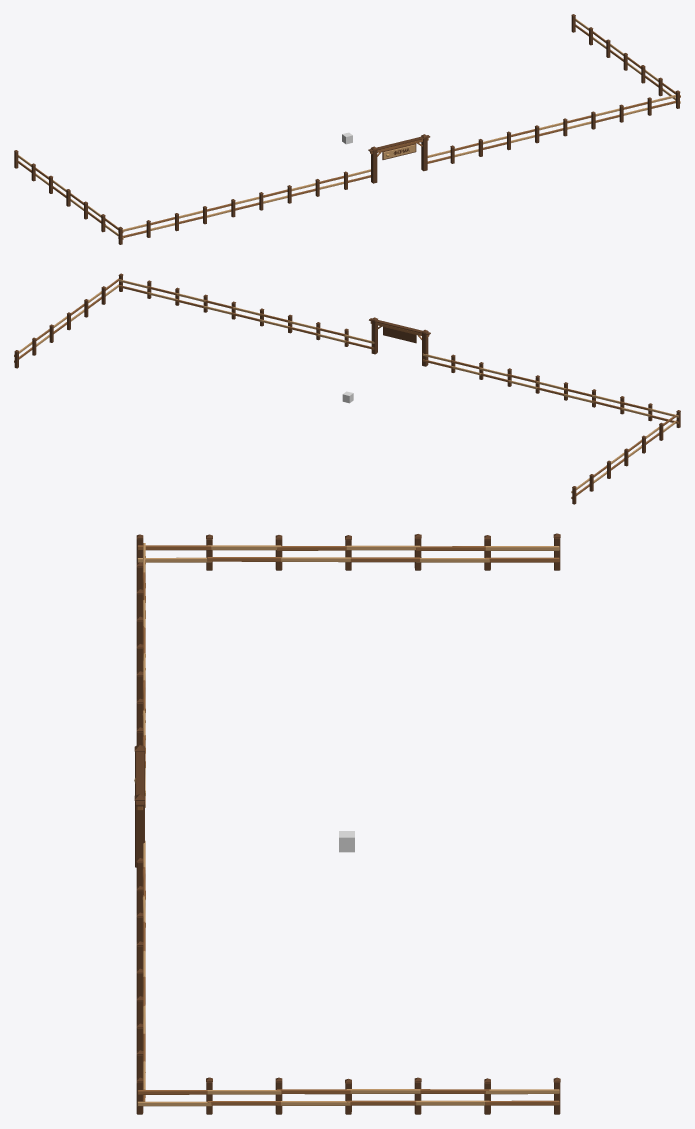
Rendered from FenceWood.fbx.
3 renders of one model, top to bottom at view 1: azimuth 30°, elevation 25°; view 2: azimuth 150°, elevation 25°; view 3: azimuth 270°, elevation 25°, orthographic. The views are drawn at different scales.
Visible parts, largest first — view 1: Body__WoodDark.002, Body__Wood.002, Body__WoodLight.002; view 2: Body__WoodDark.002, Body__Wood.002, Body__WoodLight.002; view 3: Body__WoodDark.002, Body__WoodLight.002, Body__Wood.002.
Part boxes in pixels (left/top/right/bottom): Body__WoodDark.002: left=14, top=14, right=680, bottom=244; Body__Wood.002: left=18, top=24, right=680, bottom=238; Body__WoodLight.002: left=18, top=19, right=680, bottom=239; Body__WoodDark.002: left=14, top=273, right=680, bottom=504; Body__Wood.002: left=14, top=278, right=678, bottom=498; Body__WoodLight.002: left=14, top=279, right=678, bottom=492; Body__WoodDark.002: left=134, top=533, right=560, bottom=1114; Body__WoodLight.002: left=137, top=543, right=559, bottom=1106; Body__Wood.002: left=136, top=545, right=559, bottom=1105.
Size of the model in its own units: 8018 by 542 by 2635.
